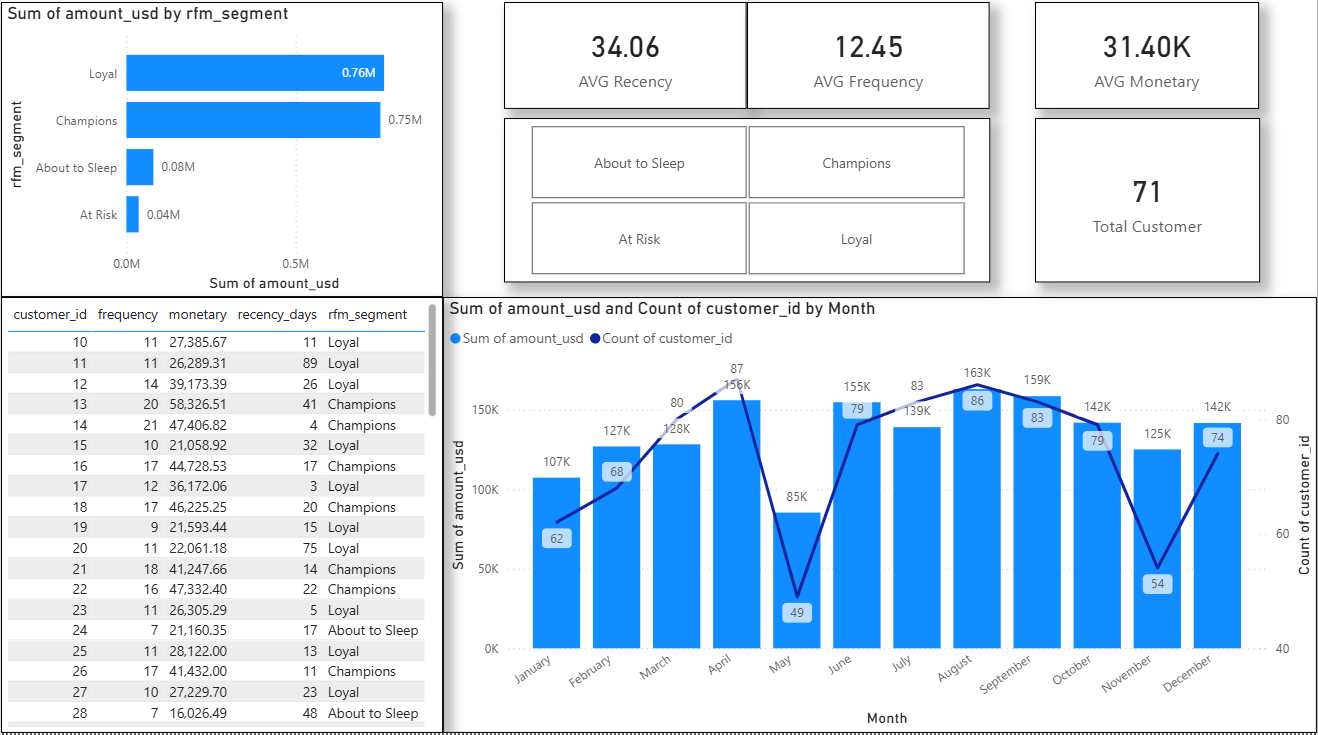

Layout of this report page (visuals, bound fields, positions):
{"tool":"powerbi","page":{"name":"Page 2","canvas":[1280,720],"ordinal":2},"visuals":[{"type":"barChart","fields":{"Category":["rfm.rfm_segment"],"Y":["Sum(fact_orders.amount_usd)"]},"box":[0,0,429.7,295.5],"z":0},{"type":"lineStackedColumnComboChart","fields":{"Y":["Sum(fact_orders.amount_usd)"],"Y2":["CountNonNull(fact_orders.customer_id)"],"Category":["fact_orders.order_date.Variation.Date Hierarchy.Month"]},"box":[429.7,295.5,850.3,424],"z":1000},{"type":"tableEx","fields":{"Values":["rfm.customer_id","rfm.frequency","rfm.monetary","rfm.recency_days","rfm.rfm_segment"]},"box":[0,295.5,429.7,424],"z":2000},{"type":"card","fields":{"Values":["measuree.meagure"]},"box":[489.4,0,214.3,112.8],"z":3000},{"type":"card","fields":{"Values":["measuree.AVG Frequency"]},"box":[747.7,0,214.3,112.8],"z":4000},{"type":"card","fields":{"Values":["measuree.AVG Monetary"]},"box":[1006,9,217.7,103.8],"z":5000},{"type":"slicer","fields":{"Values":["rfm.rfm_segment"]},"box":[489.4,121.8,472.5,160.1],"z":6000},{"type":"card","fields":{"Values":["measuree.Total Customer"]},"box":[1006,121.8,218.8,160.1],"z":7000}]}

Visuals, with their boxes in screenshot pixels (x1, y1, x2, y2), scaled from the page's 1280x720 canvas onto the 1318x735 screenshot:
barChart - rfm.rfm_segment x Sum(fact_orders.amount_usd): (x1=0, y1=0, x2=442, y2=302)
lineStackedColumnComboChart - Sum(fact_orders.amount_usd) x CountNonNull(fact_orders.customer_id): (x1=442, y1=302, x2=1317, y2=734)
tableEx - rfm.customer_id x rfm.frequency: (x1=0, y1=302, x2=442, y2=734)
card - measuree.meagure: (x1=504, y1=0, x2=725, y2=115)
card - measuree.AVG Frequency: (x1=770, y1=0, x2=991, y2=115)
card - measuree.AVG Monetary: (x1=1036, y1=9, x2=1260, y2=115)
slicer - rfm.rfm_segment: (x1=504, y1=124, x2=990, y2=288)
card - measuree.Total Customer: (x1=1036, y1=124, x2=1261, y2=288)
